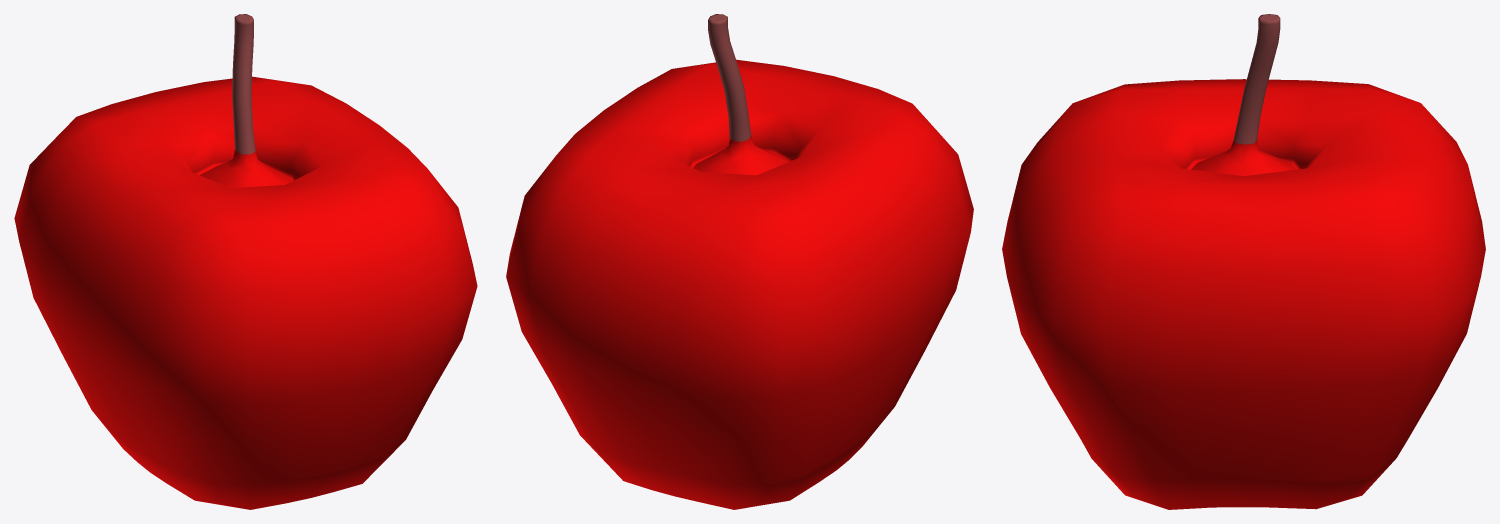
File: apple.fbx
3 renders of one model, left to right at view 1: azimuth 30°, elevation 25°; view 2: azimuth 150°, elevation 25°; view 3: azimuth 270°, elevation 25°, orthographic. The views are drawn at different scales.
Parts seen in each view (by area): view 1: pCube1; view 2: pCube1; view 3: pCube1.
Part boxes in pixels (box(x1,y1,x2,y2)): pCube1: box(14, 14, 477, 509); pCube1: box(506, 14, 973, 509); pCube1: box(1002, 14, 1485, 509).
Bounding box in the file's own units: 5.95 × 7.47 × 6.95.
